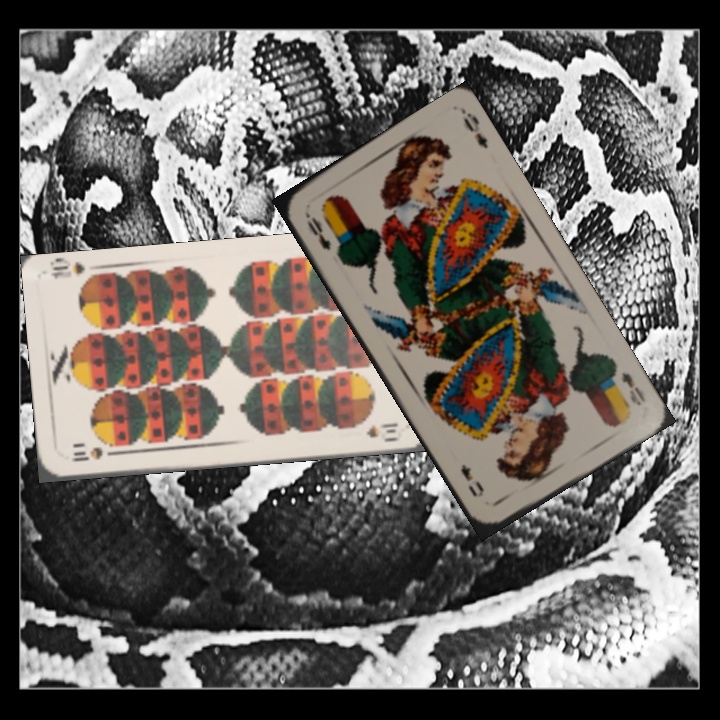EO: (607, 359, 648, 409), (301, 208, 334, 253)
S10: (68, 443, 121, 465)
